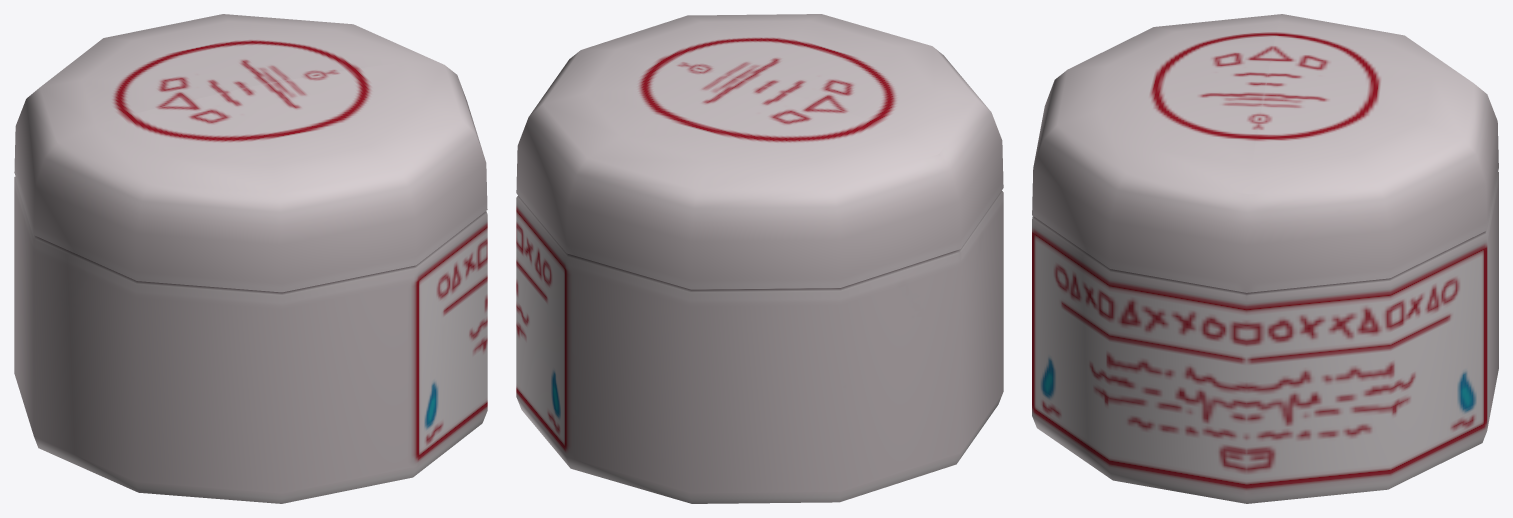
Rendered from Generic Makeup Jar.fbx.
3 renders of one model, left to right at view 1: azimuth 30°, elevation 25°; view 2: azimuth 150°, elevation 25°; view 3: azimuth 270°, elevation 25°, orthographic.
Visible parts, largest first — view 1: GenericMakeupJar; view 2: GenericMakeupJar; view 3: GenericMakeupJar.
Part boxes in pixels (box(x1,y1,x2,y2)): GenericMakeupJar: box(14, 14, 487, 503); GenericMakeupJar: box(516, 14, 1003, 503); GenericMakeupJar: box(1032, 14, 1498, 503).
Size of the model in its own units: 4.66 by 3.41 by 4.54.
